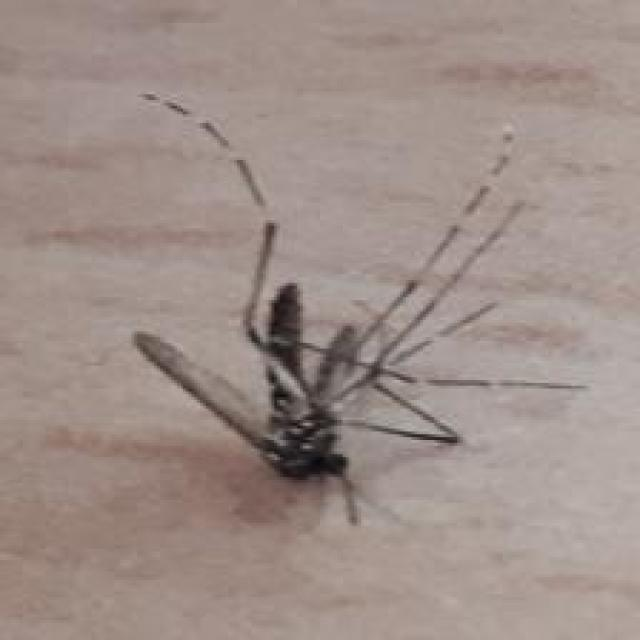Aedes albopictus: (130, 90, 587, 527)
